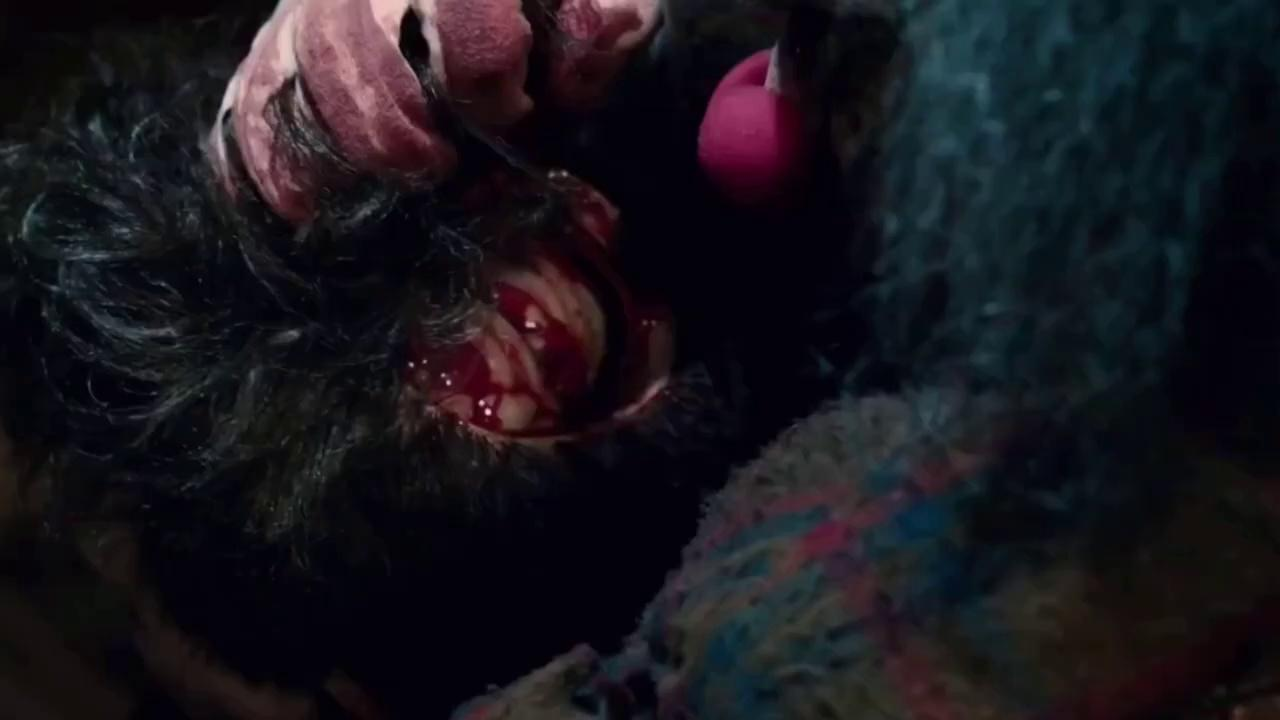Fire: (407, 260, 595, 435), (571, 188, 609, 231), (632, 319, 655, 368)
